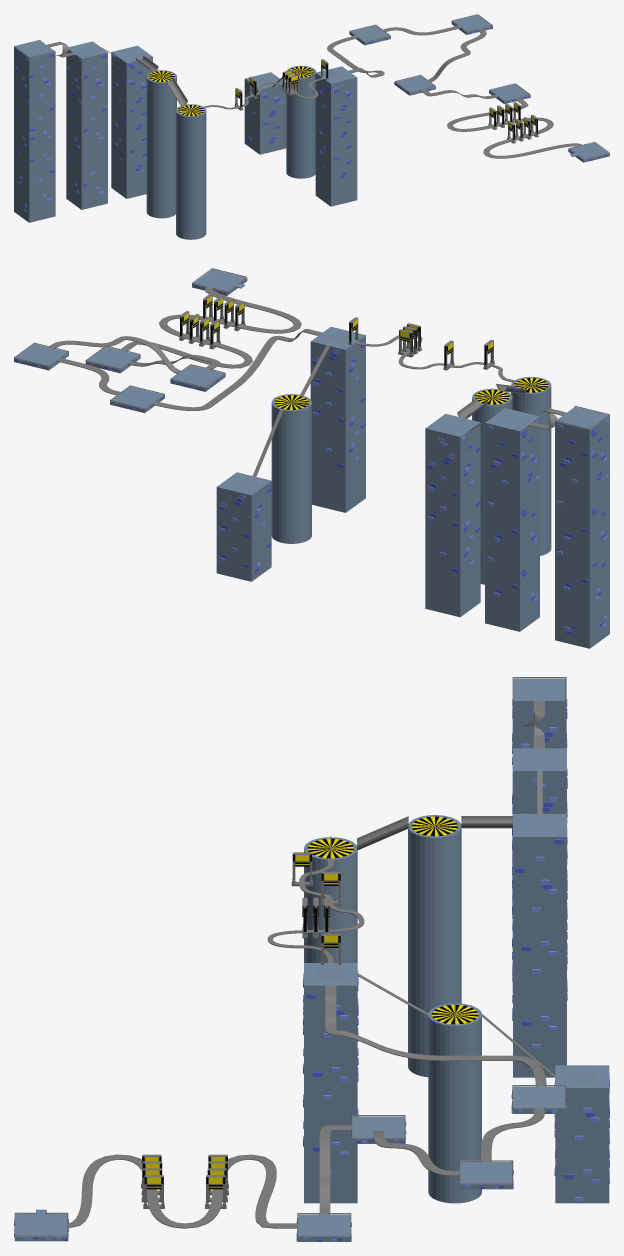
File: Level3.fbx
The picture shows the model from 3 angles, top to bottom: view 1: azimuth 30°, elevation 25°; view 2: azimuth 150°, elevation 25°; view 3: azimuth 270°, elevation 25°; orthographic projection. The views are drawn at different scales.
Parts seen in each view (by area): view 1: BaseKitchen.004, BaseKitchen.005, BaseKitchen.006, BaseKitchen.001, CylinderSpin.004, CylinderSpin.005, BaseKitchen.007, CylinderSpin.007, Plane.017, BaseCustomer2.003, BaseCustomer.003, BaseCustomer1.005 (+5 smaller); view 2: BaseKitchen.004, BaseKitchen.005, BaseKitchen.001, BaseKitchen.006, CylinderSpin.007, BaseKitchen.007, CylinderSpin.005, Plane.017, CylinderSpin.004, Plane.013, BaseCustomer1.005, BaseCustomer2.003 (+5 smaller); view 3: BaseKitchen.001, BaseKitchen.006, CylinderSpin.004, CylinderSpin.007, BaseKitchen.007, CylinderSpin.005, BaseKitchen.004, BaseKitchen.005, Plane.017, Plane.013, BaseCustomer2.003, BaseCustomer1.004 (+9 smaller).
Boxes of the visible parts, x1=… form: BaseKitchen.004: x1=14, y1=40, x2=55, y2=222; BaseKitchen.005: x1=66, y1=41, x2=107, y2=209; BaseKitchen.006: x1=315, y1=66, x2=357, y2=206; BaseKitchen.001: x1=111, y1=45, x2=152, y2=198; CylinderSpin.004: x1=146, y1=70, x2=176, y2=218; CylinderSpin.005: x1=176, y1=104, x2=206, y2=239; BaseKitchen.007: x1=244, y1=72, x2=286, y2=154; CylinderSpin.007: x1=286, y1=65, x2=316, y2=178; Plane.017: x1=447, y1=97, x2=583, y2=158; BaseCustomer2.003: x1=568, y1=141, x2=609, y2=162; BaseCustomer.003: x1=349, y1=24, x2=390, y2=45; BaseCustomer1.005: x1=394, y1=75, x2=435, y2=95; BaseKitchen.004: x1=555, y1=406, x2=609, y2=648; BaseKitchen.005: x1=485, y1=408, x2=539, y2=631; BaseKitchen.001: x1=425, y1=413, x2=480, y2=617; BaseKitchen.006: x1=310, y1=326, x2=365, y2=512; CylinderSpin.007: x1=271, y1=394, x2=311, y2=543; BaseKitchen.007: x1=216, y1=472, x2=271, y2=581; CylinderSpin.005: x1=511, y1=377, x2=551, y2=555; Plane.017: x1=120, y1=287, x2=301, y2=368; CylinderSpin.004: x1=472, y1=388, x2=512, y2=584; Plane.013: x1=152, y1=329, x2=322, y2=410; BaseCustomer1.005: x1=170, y1=364, x2=225, y2=391; BaseCustomer2.003: x1=192, y1=268, x2=247, y2=295; BaseKitchen.001: x1=512, y1=814, x2=567, y2=1077; BaseKitchen.006: x1=303, y1=963, x2=358, y2=1203; CylinderSpin.004: x1=408, y1=815, x2=461, y2=1077; CylinderSpin.007: x1=428, y1=1003, x2=481, y2=1203; BaseKitchen.007: x1=554, y1=1065, x2=609, y2=1203; CylinderSpin.005: x1=304, y1=837, x2=357, y2=962; BaseKitchen.004: x1=512, y1=677, x2=567, y2=992; BaseKitchen.005: x1=512, y1=748, x2=567, y2=1010; Plane.017: x1=67, y1=1154, x2=297, y2=1228; Plane.013: x1=325, y1=985, x2=546, y2=1086; BaseCustomer2.003: x1=14, y1=1209, x2=68, y2=1241; BaseCustomer1.004: x1=459, y1=1160, x2=513, y2=1189.
Bounding box in the file's own units: 17070 × 6015 × 11058.
